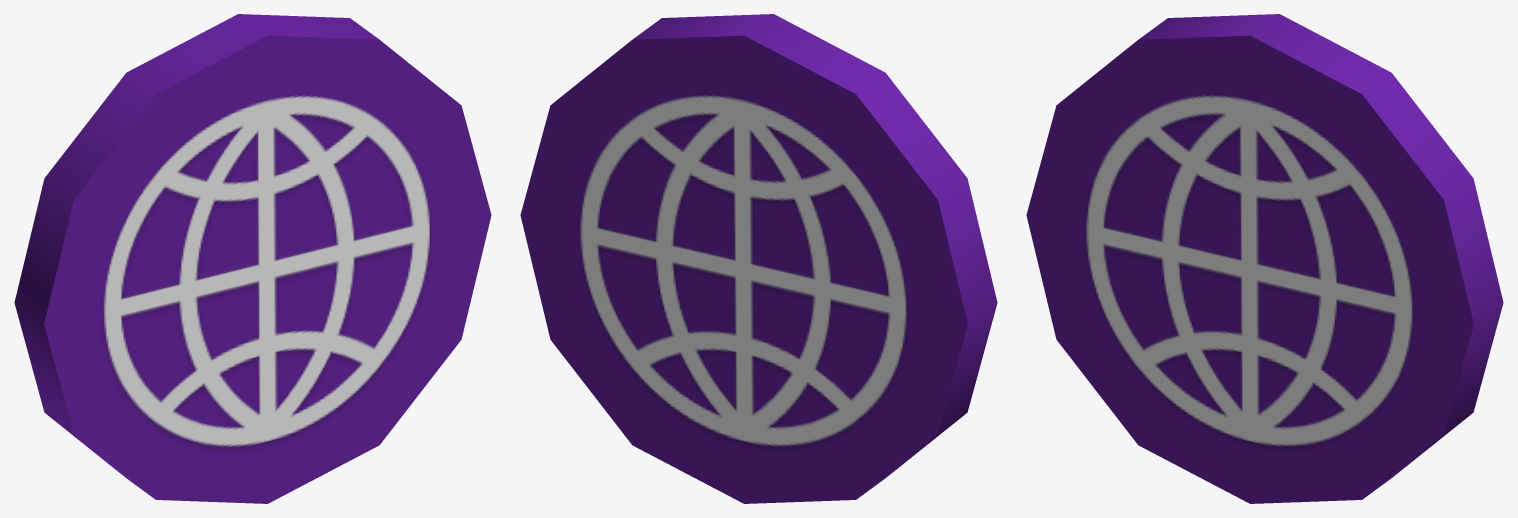
The model's file is linkwebworld_button.glb.
3 views of the same model, side by side, from view 1: azimuth 30°, elevation 25°; view 2: azimuth 150°, elevation 25°; view 3: azimuth 330°, elevation 25° (orthographic).
Visible parts, largest first — view 1: social_media_cylinder; view 2: social_media_cylinder; view 3: social_media_cylinder.
Part boxes in pixels (<box>): social_media_cylinder: <box>14,14,491,503</box>; social_media_cylinder: <box>520,14,997,503</box>; social_media_cylinder: <box>1026,14,1503,503</box>.
Size of what is drawn, in the model's own units: 0.6319 by 0.6319 by 0.0722.
Materials: 1 (1 with a texture image).
